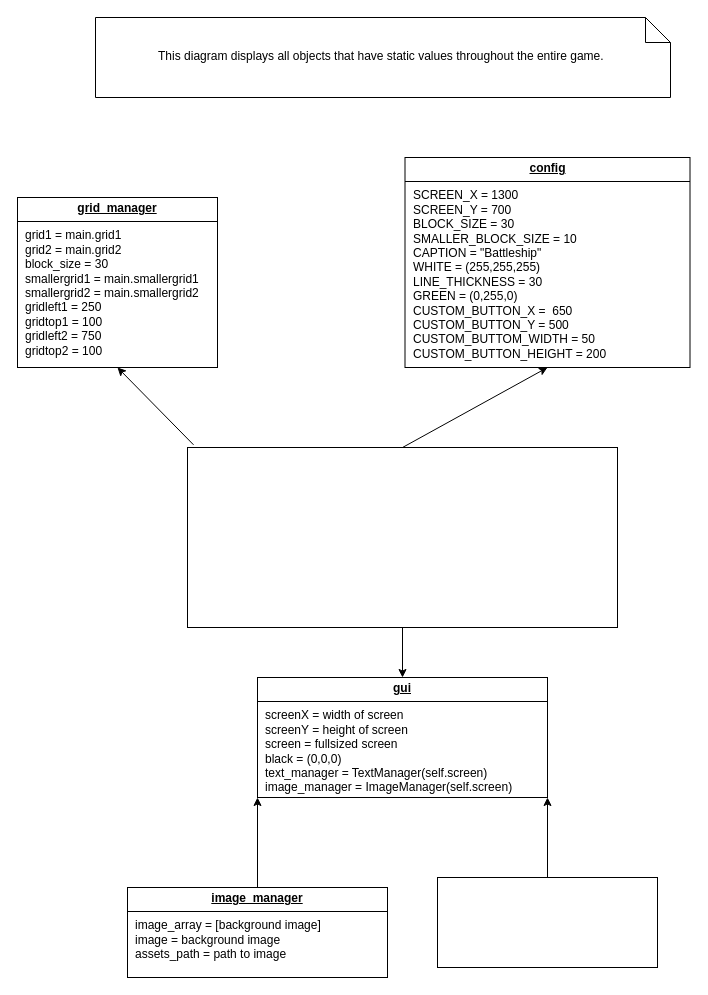
This 708x995 diagram has some shape labels left out. The shapes that lost their labels are listed below. From the top down, each one's box as (x1, y1, x2, y2) in pixels, then its label:
(186, 446, 618, 628): main
(436, 876, 658, 968): text_manager font = pygame.font.Sysfont('Arial',25) screen = fullsized screen
